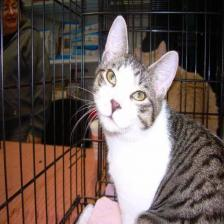cat: (91, 15, 184, 136)
